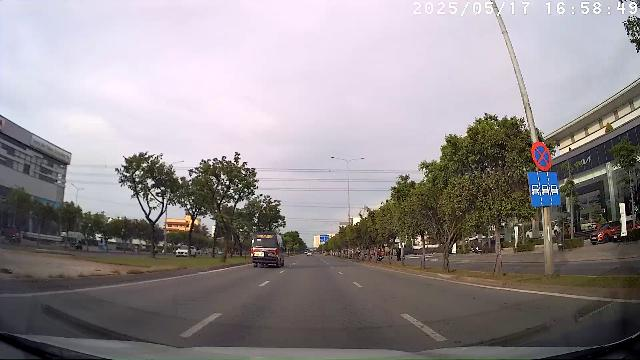130-cam-dung-va-do-xe: (531, 142, 552, 171)
